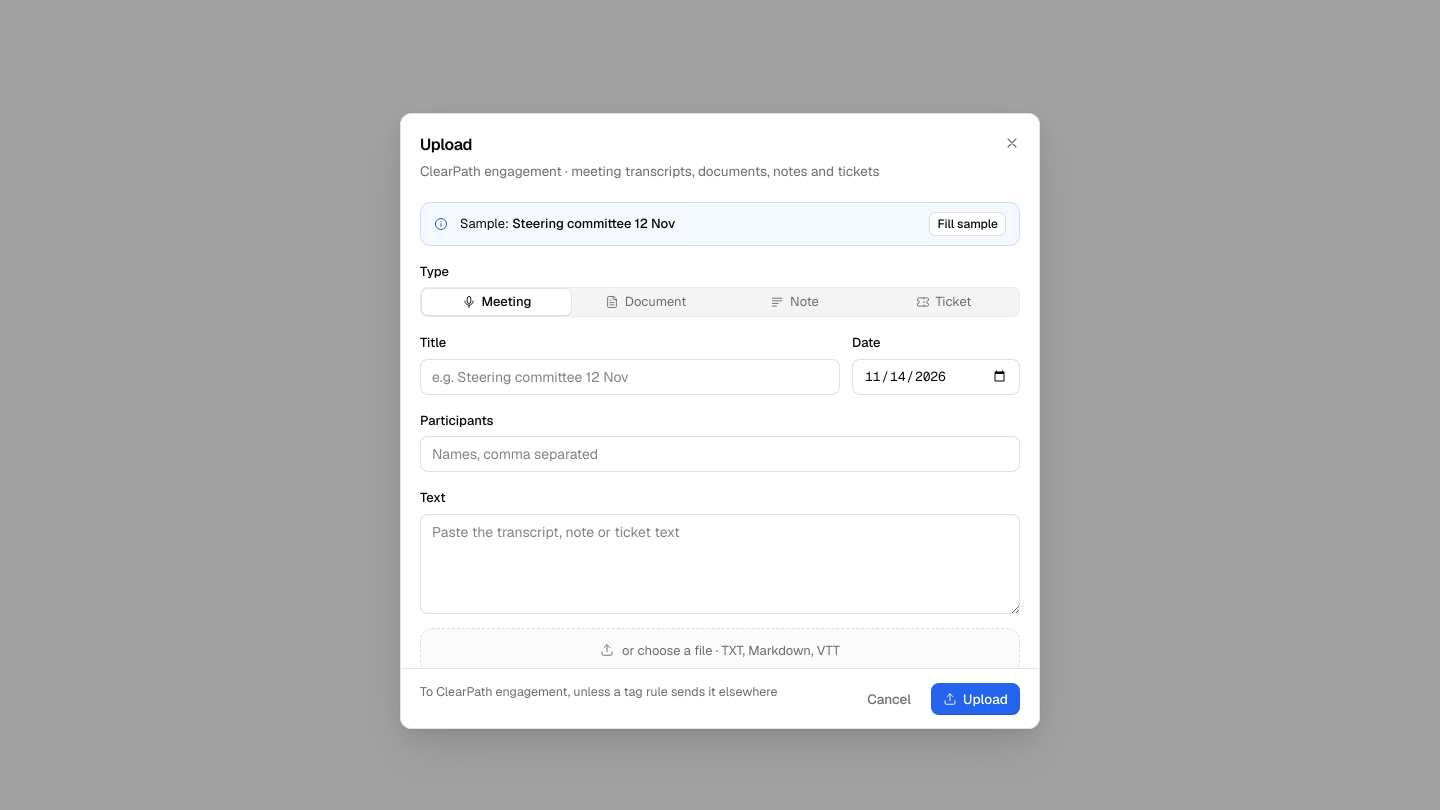
Test case: UploadDialog › the sample › uploads as filled
The width and height of the screenshot is (1440, 810).
What coordinates should you click on to do the following:
click the button "Fill sample"
I would click on:
 (968, 224)
Its box is [930,212,1006,236].
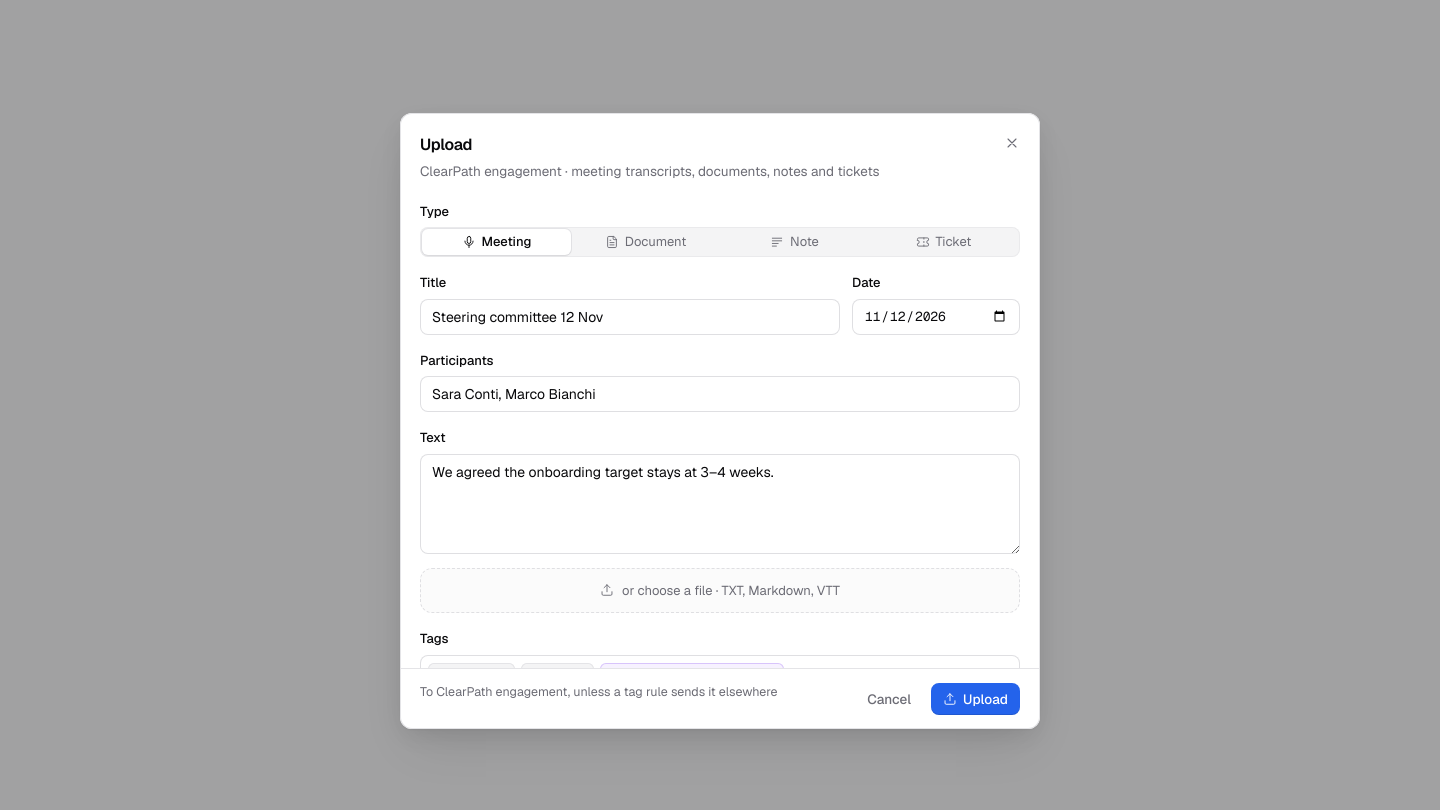
What coordinates should you click on to do the following:
click the button "Upload"
I would click on:
 (976, 699)
Its box is [931,683,1020,715].
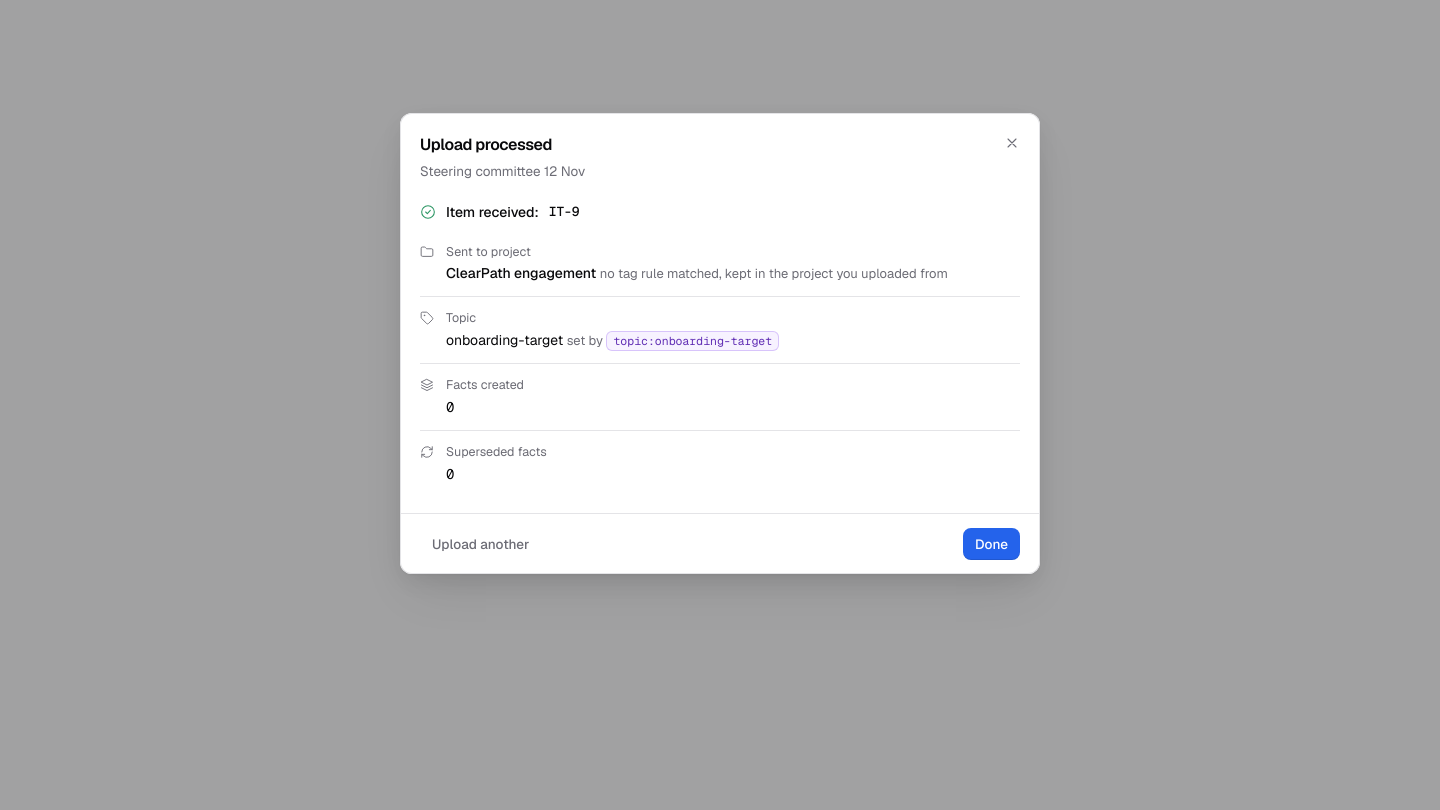
Expected: the heading "Upload processed" is shown, [420,134,552,155]
